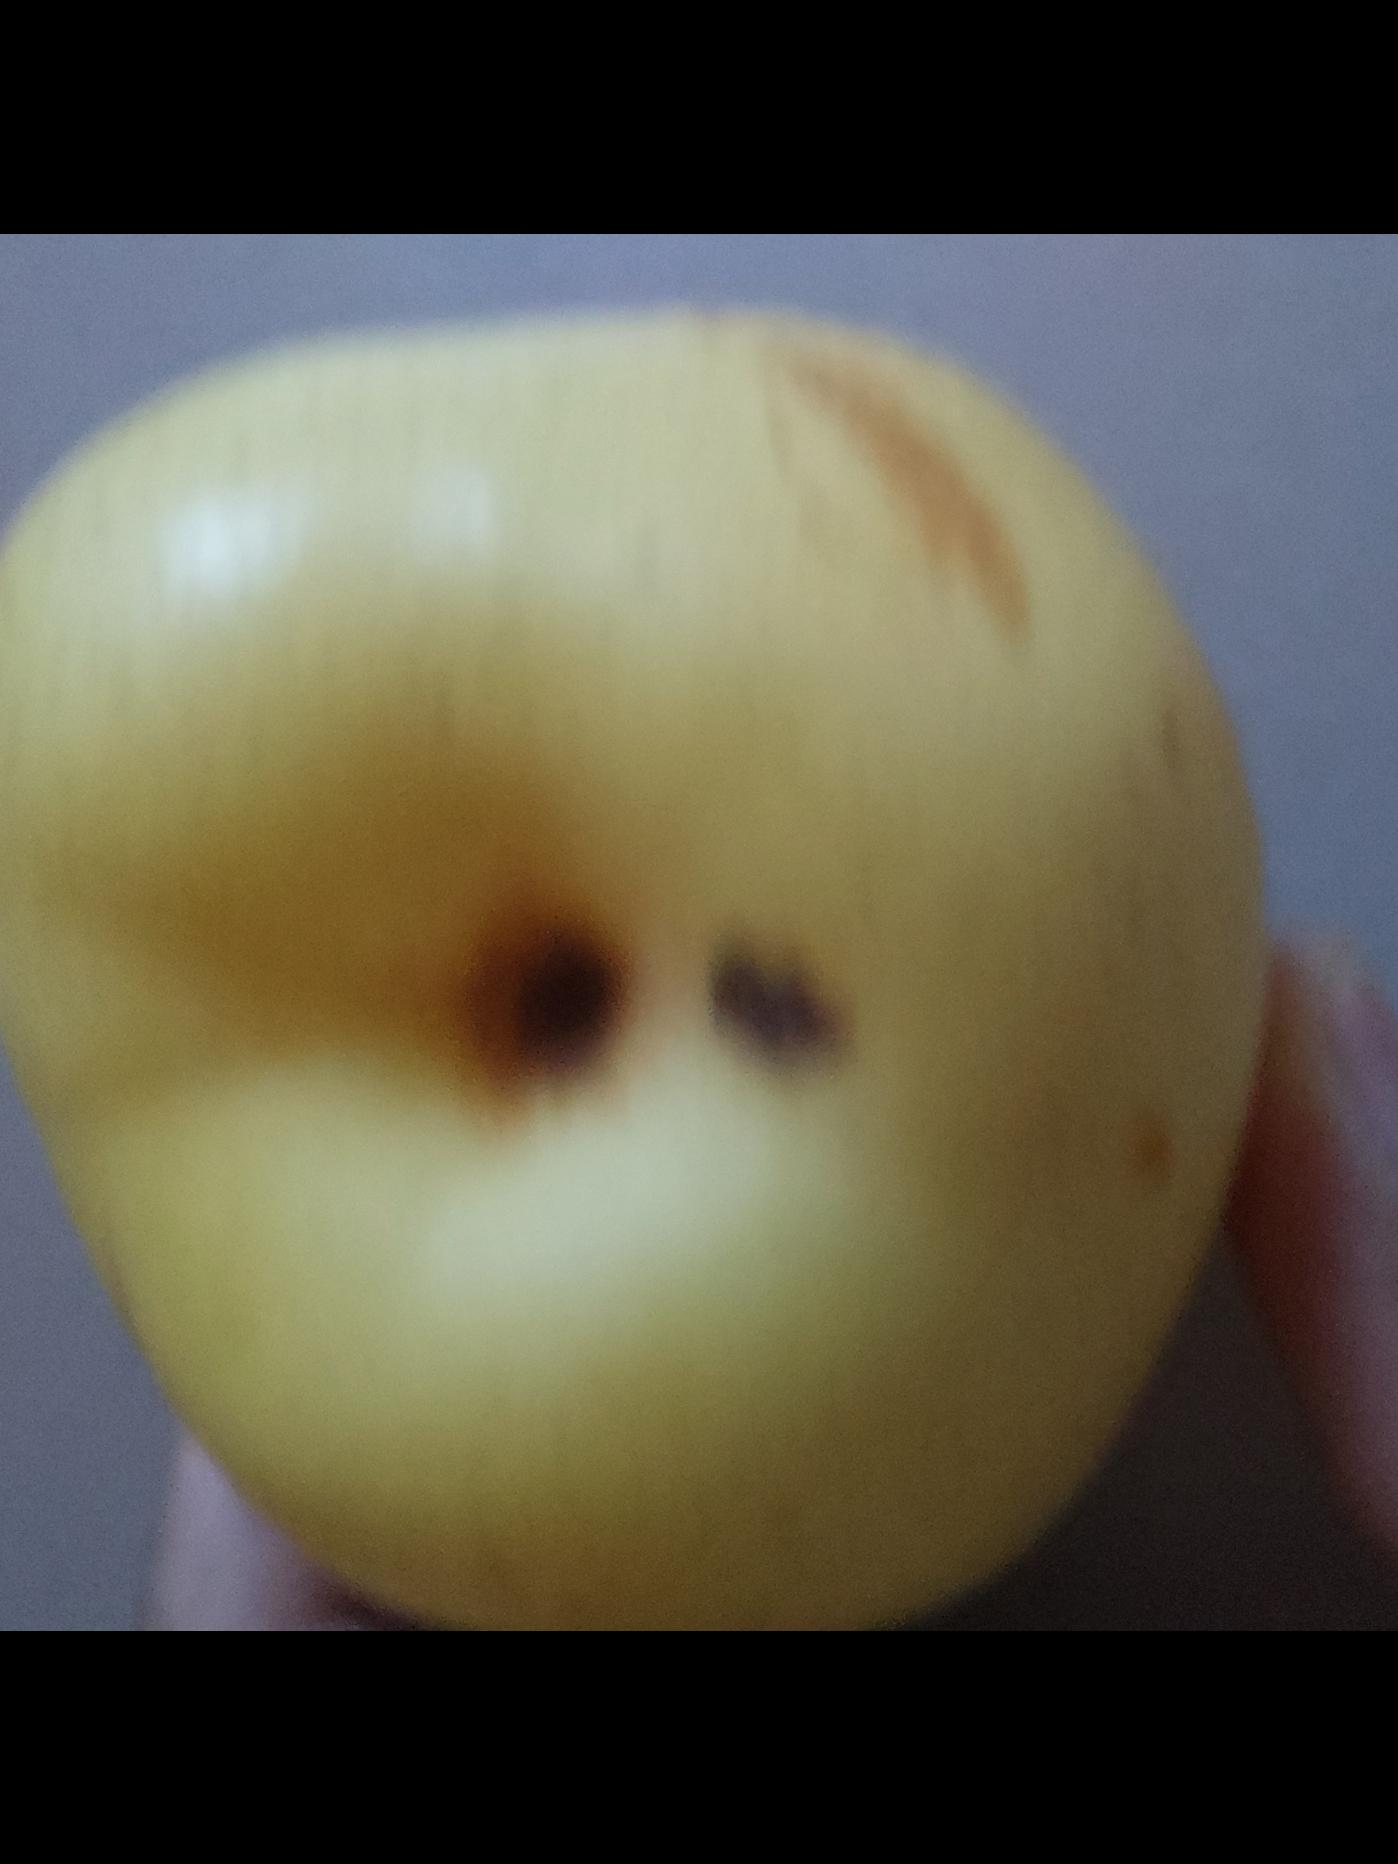Good Pear: (0, 278, 1283, 1628)
